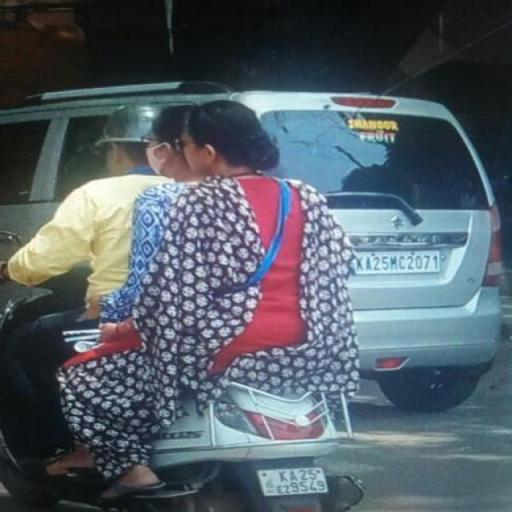tripple riding: (4, 96, 410, 445)
